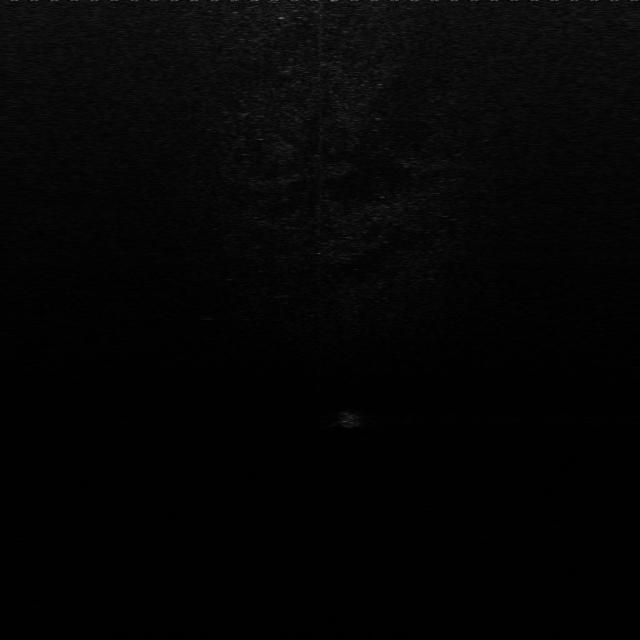circle cage: (326, 406, 370, 432)
